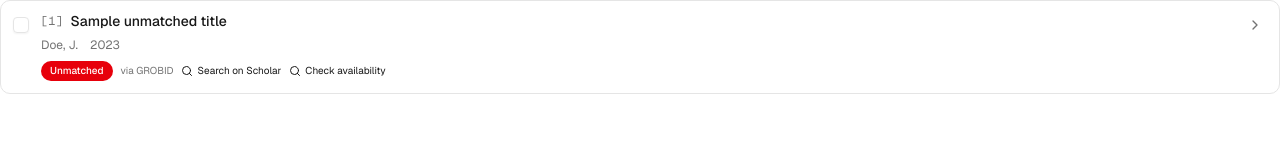
Scenario: ReferenceItem › shows discovery error details when availability check fails
This screenshot has width=1280, height=160.
Click the button "Check availability": (337,70) top-left (289, 63), bottom-right (386, 78)
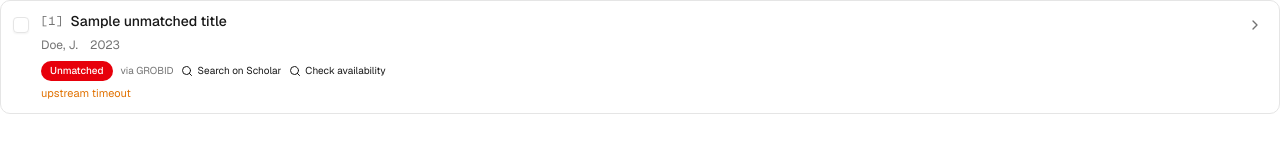
Result: the text "upstream timeout" is shown at top-left (41, 86), bottom-right (131, 100)
